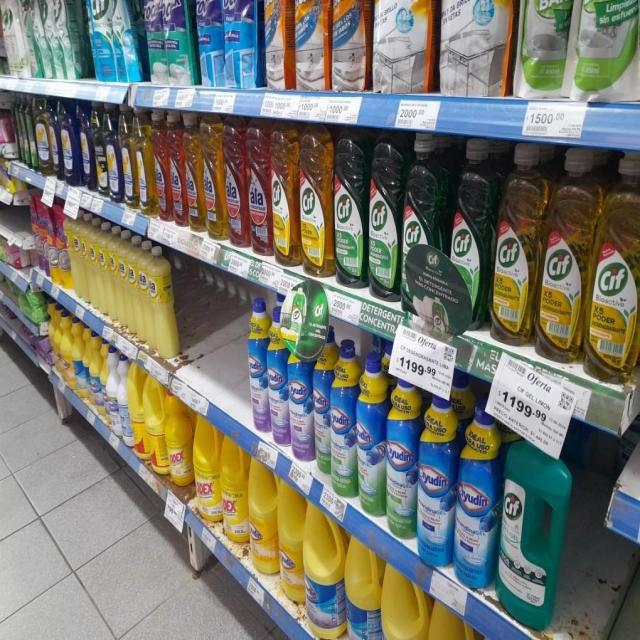ala_conc_amarillo: (204, 112, 224, 240), (185, 113, 202, 233)
ala_conc_rojo: (247, 119, 270, 255), (224, 115, 247, 248), (169, 111, 184, 227), (154, 110, 168, 222)
ala_crem_amarillo: (70, 211, 86, 301), (88, 217, 98, 312)
cif_conc_bot_amarilla: (587, 153, 640, 381), (538, 145, 588, 362), (493, 140, 537, 347), (300, 127, 332, 278), (272, 124, 298, 268)
cif_conc_botella_verde: (402, 133, 446, 331), (448, 136, 489, 332), (368, 133, 400, 301), (334, 131, 366, 288)
magistral_con_amarillo: (136, 107, 153, 215), (121, 106, 136, 209), (35, 97, 50, 176)
magistral_con_azul: (106, 103, 121, 204), (60, 100, 77, 184), (79, 101, 92, 189)
